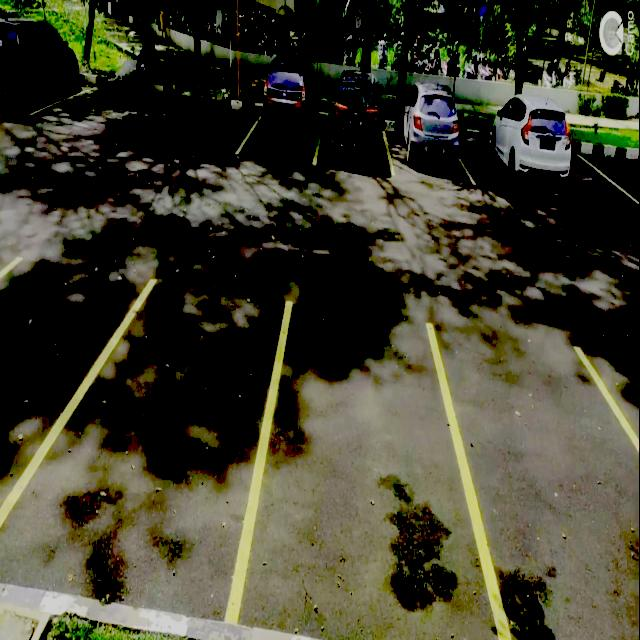empty: (19, 276, 273, 620), (237, 301, 487, 640), (461, 338, 639, 639), (607, 140, 640, 208)
occupied: (466, 110, 574, 192), (0, 25, 78, 116), (316, 80, 388, 174), (250, 73, 322, 163), (388, 98, 468, 177)
